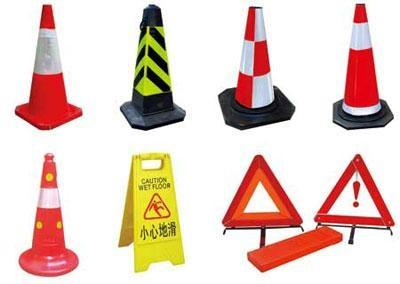cone_barrel: (113, 152, 193, 269), (18, 10, 78, 127), (123, 8, 182, 124), (21, 158, 75, 274), (336, 5, 385, 123), (227, 7, 280, 114)
